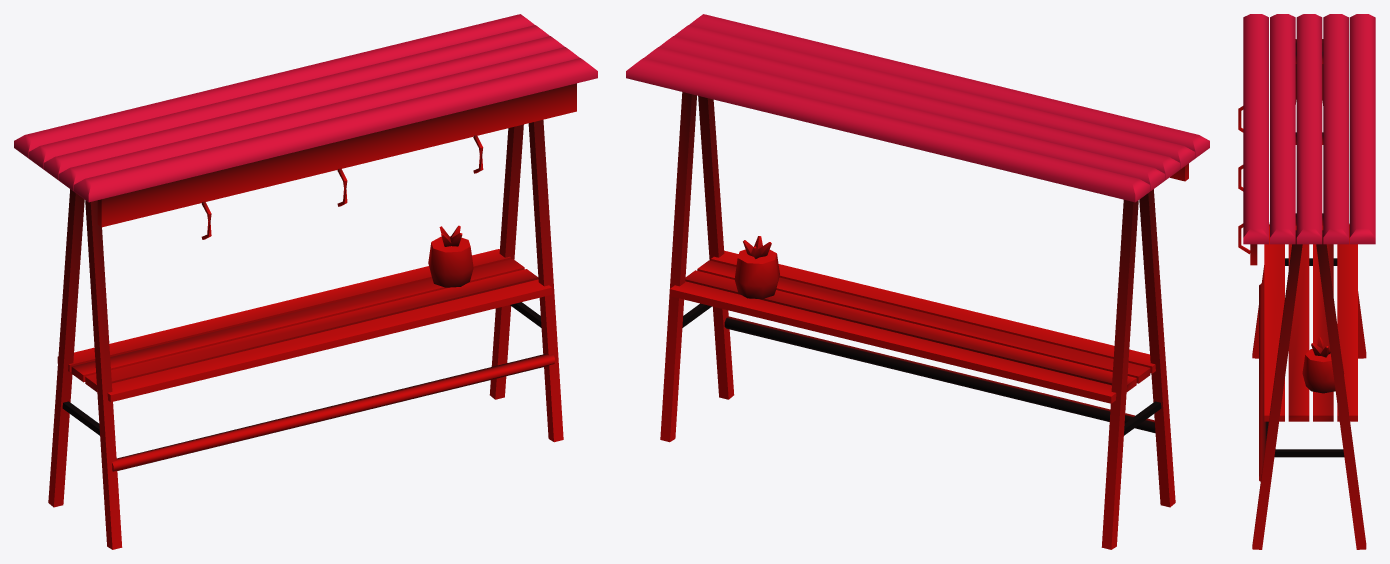
Rendered from CI_Cafe_BarShelf_Window.glb.
3 views of the same model, side by side, from view 1: azimuth 30°, elevation 25°; view 2: azimuth 150°, elevation 25°; view 3: azimuth 270°, elevation 25° (orthographic). The views are drawn at different scales.
Parts seen in each view (by area): view 1: CI_Cafe_BarShelf_Window; view 2: CI_Cafe_BarShelf_Window; view 3: CI_Cafe_BarShelf_Window.
Boxes of the visible parts, x1=… form: CI_Cafe_BarShelf_Window: x1=14, y1=14, x2=597, y2=549; CI_Cafe_BarShelf_Window: x1=626, y1=14, x2=1209, y2=549; CI_Cafe_BarShelf_Window: x1=1238, y1=14, x2=1375, y2=549.
Bounding box in the file's own units: 1.5 × 1.05 × 0.394.
